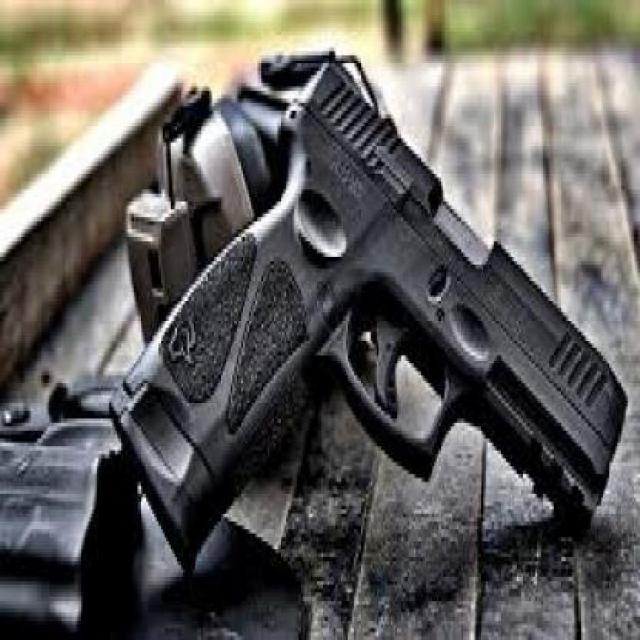Pistol: (108, 48, 630, 574)
